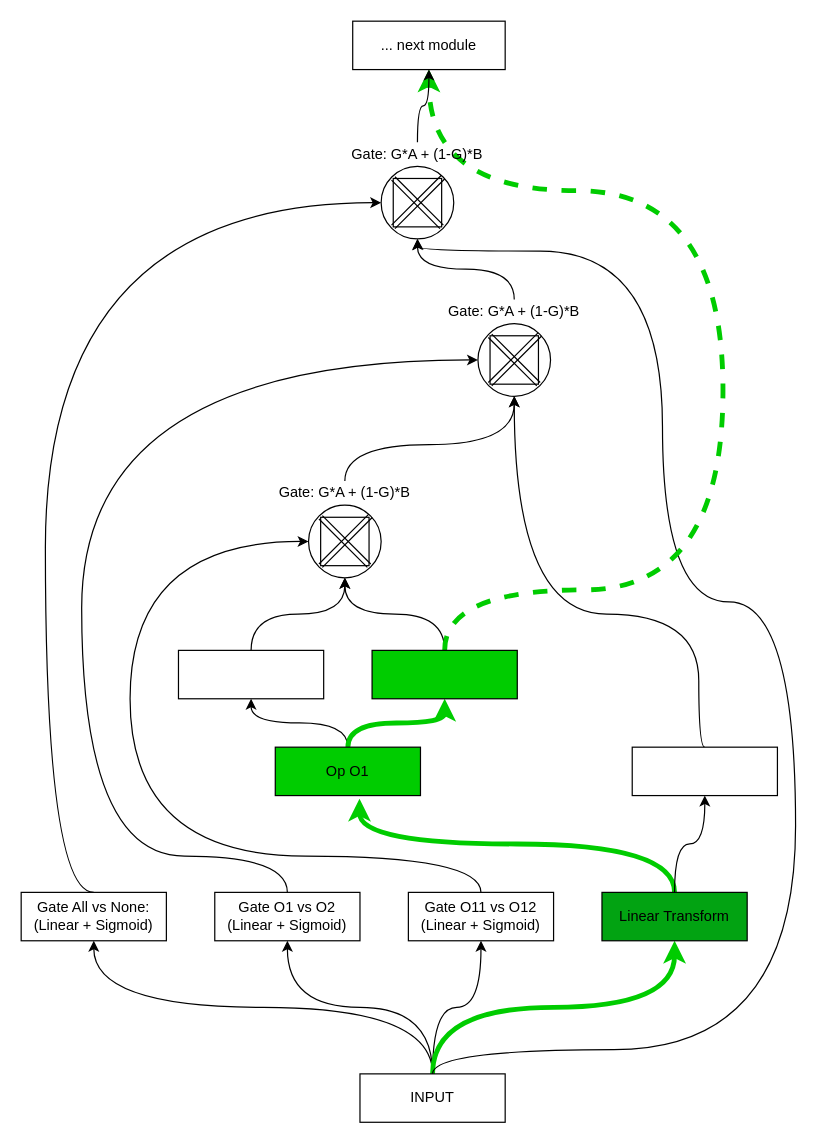
This 817x1143 diagram has some shape labels left out. Here are the shapes that lost their labels. From the top down, the centre of each, then its label:
(x=250, y=674): Op O11
(x=444, y=674): Op O12
(x=704, y=771): Op O2
